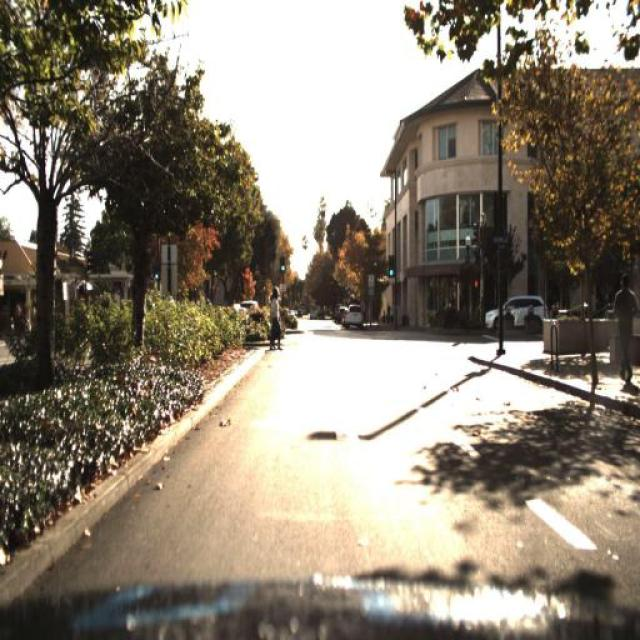car: (482, 292, 550, 331), (484, 288, 550, 326), (344, 298, 366, 336), (344, 306, 366, 332)
trafficLight: (606, 274, 640, 385), (266, 288, 283, 356), (269, 286, 280, 344)
trafficLight-GreenLeft: (384, 257, 397, 279), (386, 252, 396, 280), (277, 257, 288, 278)
trafficLight-Red: (276, 250, 286, 276)
